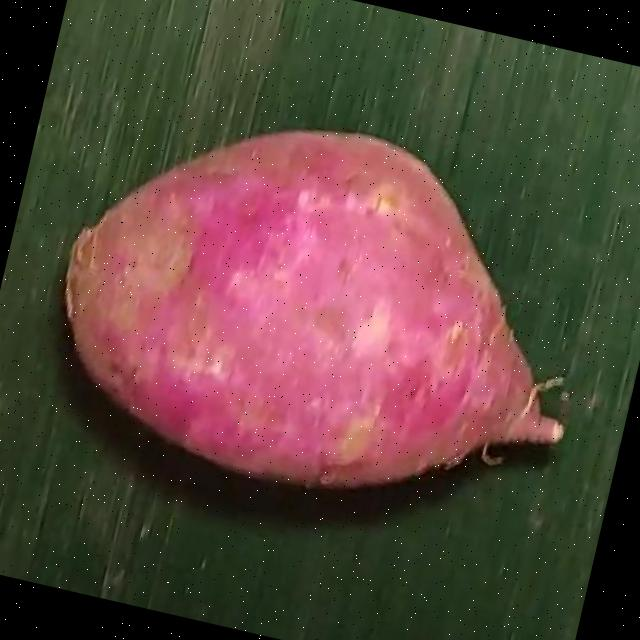Sweet Potato: (62, 127, 562, 488)
